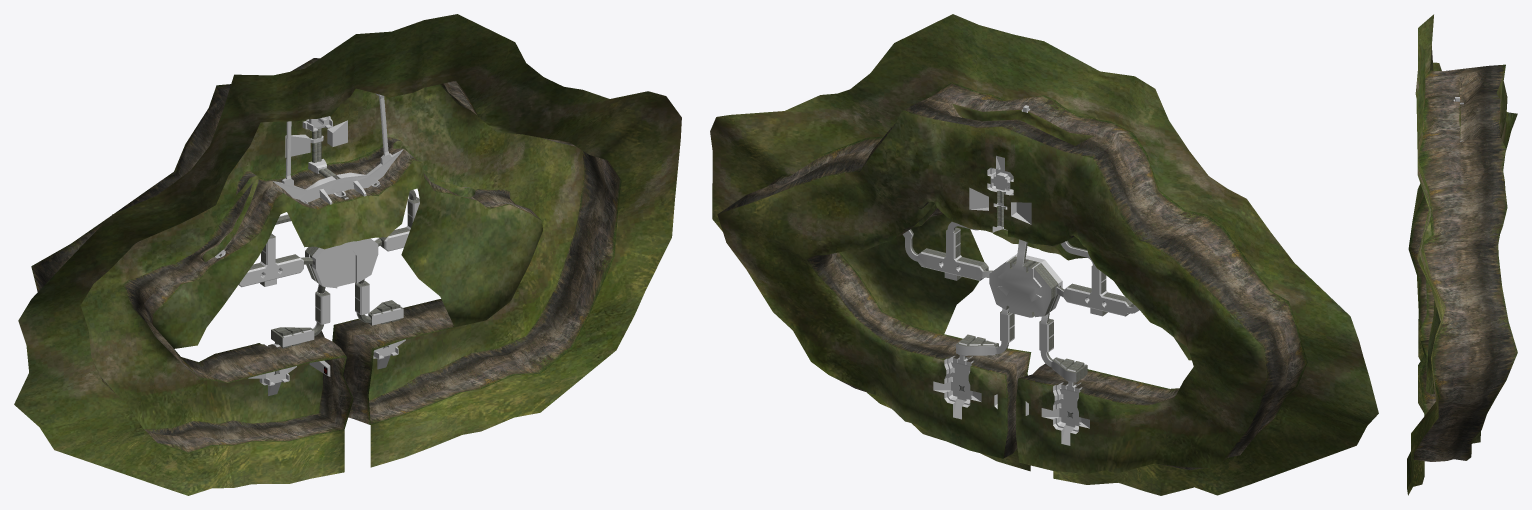
Rendered from dangercanyon.obj.
3 views of the same model, side by side, from view 1: azimuth 30°, elevation 25°; view 2: azimuth 150°, elevation 25°; view 3: azimuth 270°, elevation 25° (orthographic). The views are drawn at different scales.
Visible parts, largest first — view 1: dangercanyon; view 2: dangercanyon; view 3: dangercanyon.
Part boxes in pixels (x1,y1,x2,y2): dangercanyon: (14, 14, 681, 495); dangercanyon: (710, 14, 1378, 495); dangercanyon: (1407, 14, 1517, 495).
Bounding box in the file's own units: 14810 × 9220 × 2380.
